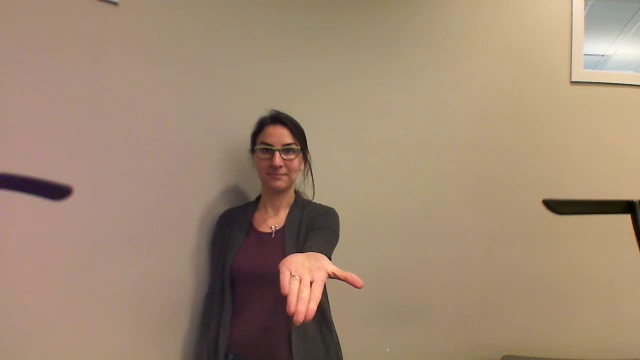land: (266, 244, 374, 329)
